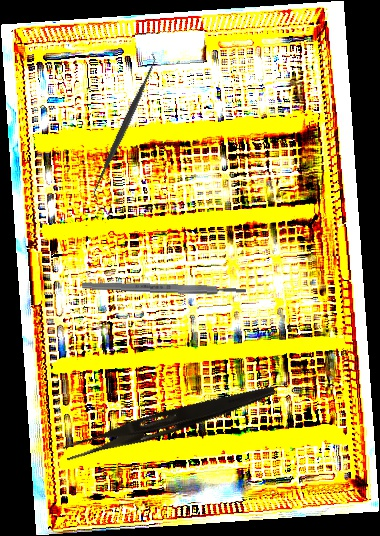Dressing Forceps: (61, 374, 278, 469)
Scalpel Handle: (81, 280, 247, 296)
Spatula Surgical: (83, 52, 166, 203)
